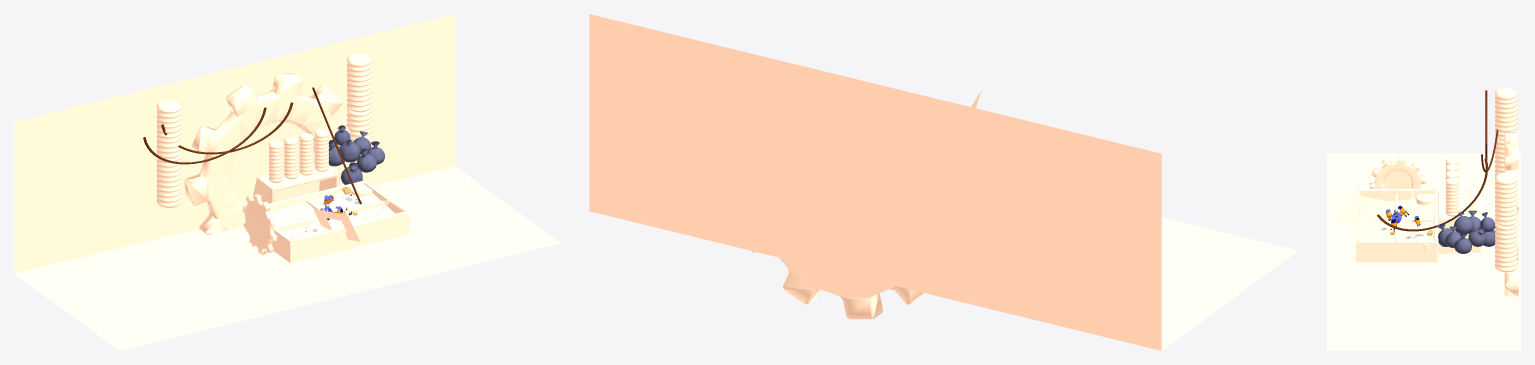
The model's file is menu_shot.fbx.
The picture shows the model from 3 angles, left to right: view 1: azimuth 30°, elevation 25°; view 2: azimuth 150°, elevation 25°; view 3: azimuth 270°, elevation 25°; orthographic projection. The views are drawn at different scales.
Parts seen in each view (by area): view 1: pPlane5, pCylinder43, pCube1, pCube6, pCylinder40, pCylinder72, pCylinder71, pCylinder55, pCylinder54, pCylinder52, pCylinder51, pCylinder53 (+3 smaller); view 2: pPlane5, pCylinder43; view 3: pPlane5, pCube1, pCylinder40, pCylinder43, pCylinder72, pPlane7, pCylinder71, pCylinder54, pCube6, pCylinder53, pTorus2, pCylinder55 (+9 smaller).
Boxes of the visible parts, x1,y1,x2,y2 form: pPlane5: (14, 14, 560, 350); pCylinder43: (184, 73, 350, 234); pCube1: (247, 180, 409, 262); pCube6: (253, 163, 339, 203); pCylinder40: (242, 194, 277, 254); pCylinder72: (347, 53, 371, 112); pCylinder71: (156, 100, 180, 158); pCylinder55: (156, 154, 180, 207); pCylinder54: (347, 108, 371, 161); pCylinder52: (299, 133, 313, 175); pCylinder51: (284, 137, 298, 179); pCylinder53: (314, 129, 328, 171); pPlane5: (589, 14, 1298, 350); pCylinder43: (751, 251, 923, 319); pPlane5: (1327, 153, 1520, 350); pCube1: (1356, 189, 1437, 262); pCylinder40: (1369, 157, 1426, 188); pCylinder43: (1504, 132, 1518, 296); pCylinder72: (1495, 172, 1517, 226); pPlane7: (1337, 192, 1393, 225); pCylinder71: (1495, 87, 1517, 141); pCylinder54: (1495, 222, 1517, 272); pCube6: (1438, 188, 1481, 253); pCylinder53: (1445, 177, 1458, 216); pTorus2: (1377, 158, 1487, 231); pCylinder55: (1495, 137, 1504, 181).
Bounding box in the file's own units: 145 × 58.95 × 60.07.
